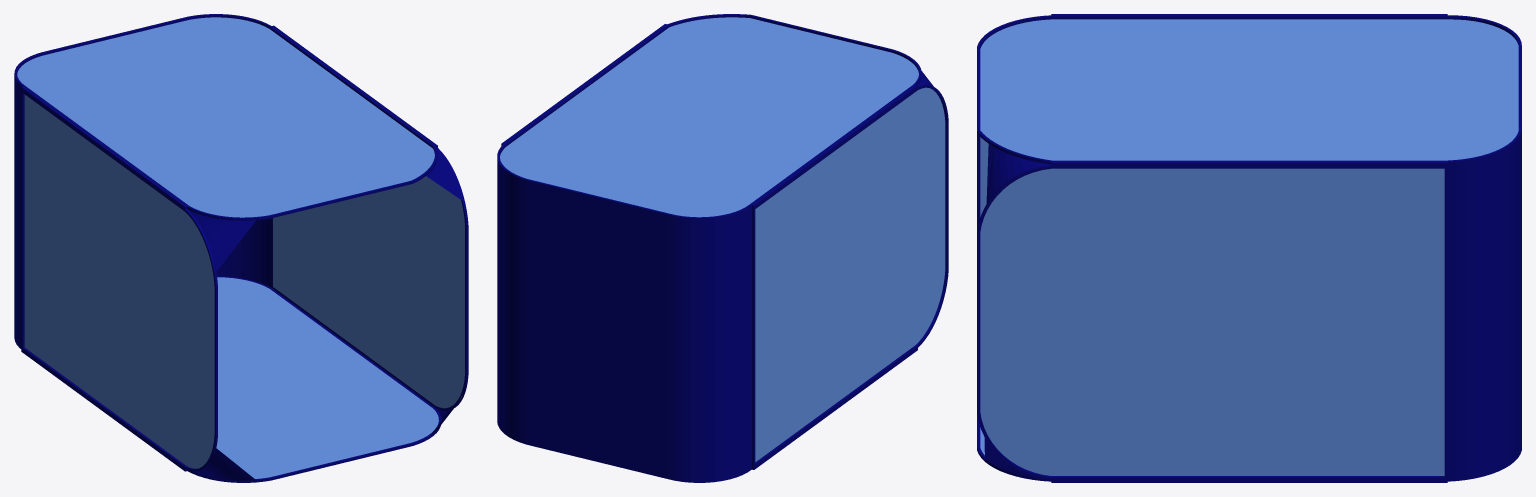
The picture shows the model from 3 angles, left to right: view 1: azimuth 30°, elevation 25°; view 2: azimuth 150°, elevation 25°; view 3: azimuth 270°, elevation 25°; orthographic projection. The views are drawn at different scales.
Parts seen in each view (by area): view 1: hamper; view 2: hamper; view 3: hamper.
Boxes of the visible parts, bbox=[...] form: hamper: bbox=[14, 14, 468, 482]; hamper: bbox=[497, 14, 948, 482]; hamper: bbox=[977, 14, 1521, 482].
Bounding box in the file's own units: 14.25 × 14.25 × 22.
